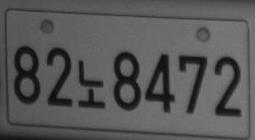2: (212, 55, 241, 117), (45, 46, 72, 106)
4: (144, 53, 175, 113)
7: (178, 54, 208, 114)
8: (112, 51, 141, 111), (12, 45, 40, 105)
노: (77, 60, 105, 109)
